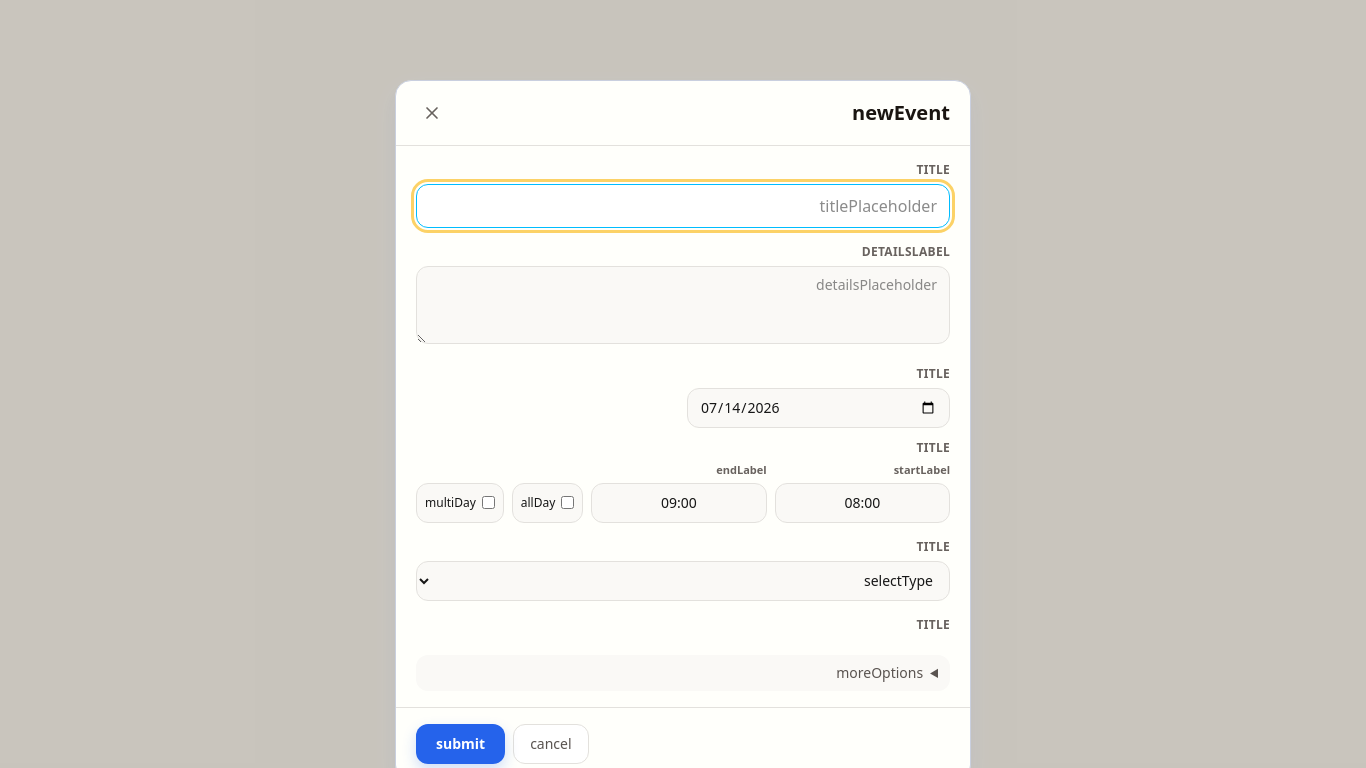
Test: QuickEventDialog › reveals the end date and locks all-day mode for a multi-day event
This screenshot has width=1366, height=768.
Click the checkbox labelled "multiDay".
click(488, 502)  # box x1=482 y1=496 x2=495 y2=509
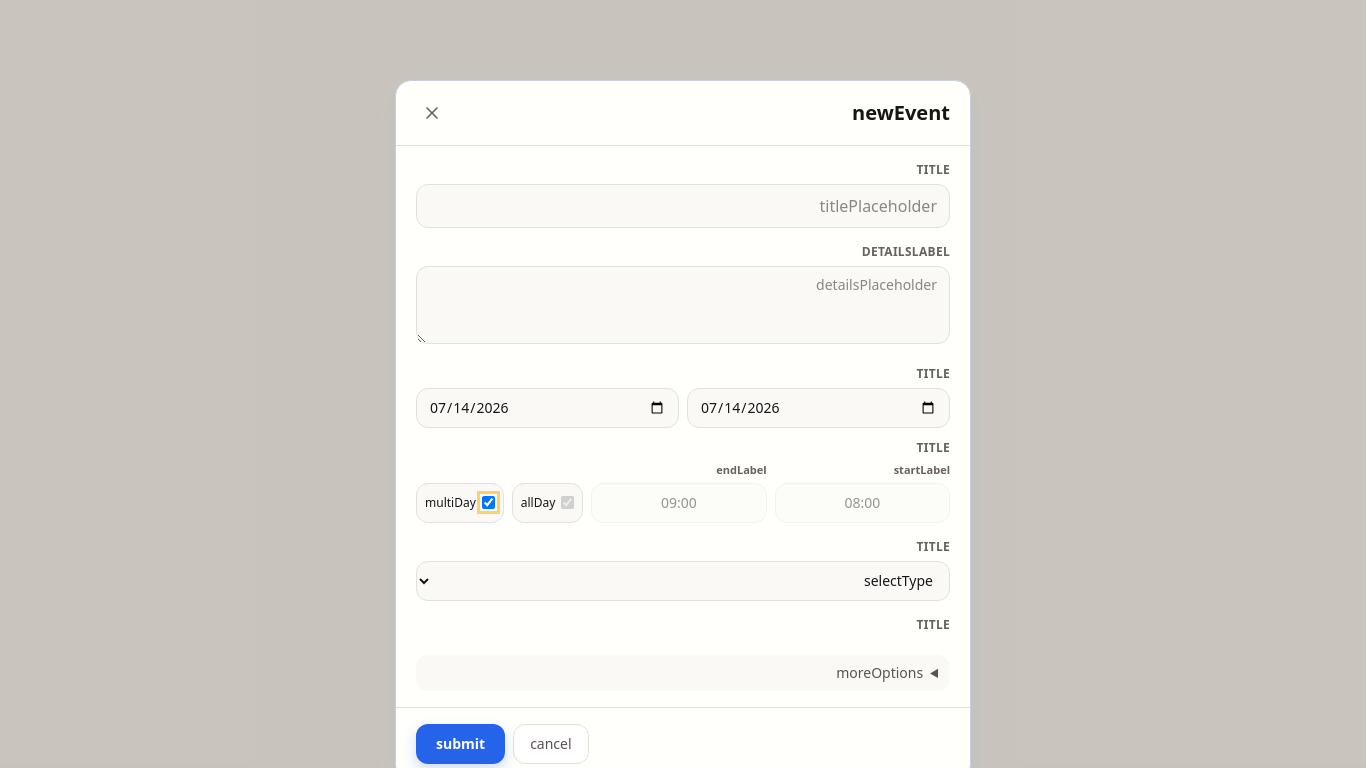
Result: the date field named "endDate" holds "2026-07-14" at x1=416 y1=388 x2=679 y2=428
Result: the checkbox labelled "allDay" is checked at x1=561 y1=496 x2=574 y2=509
Result: the checkbox labelled "allDay" is disabled at x1=561 y1=496 x2=574 y2=509
